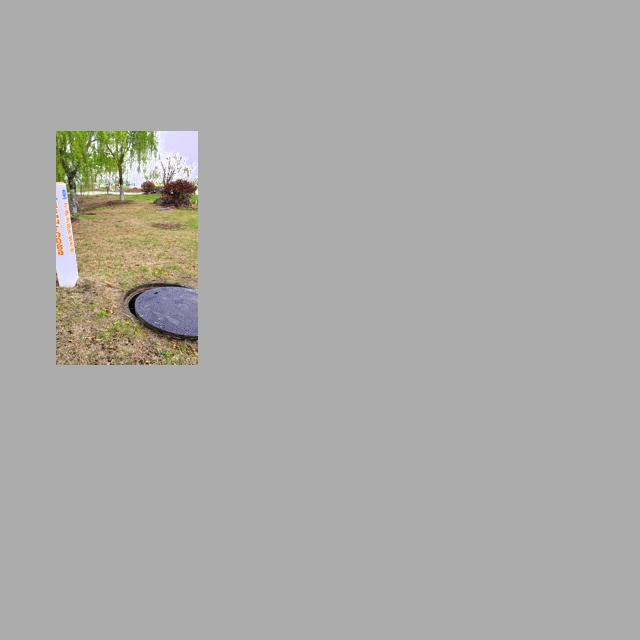uncovered: (125, 282, 197, 339)
